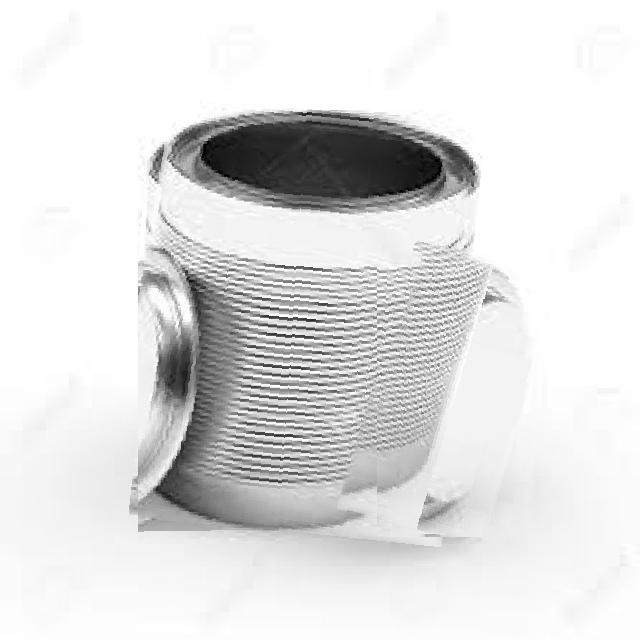recyclable: (138, 104, 474, 540), (378, 252, 548, 538)
